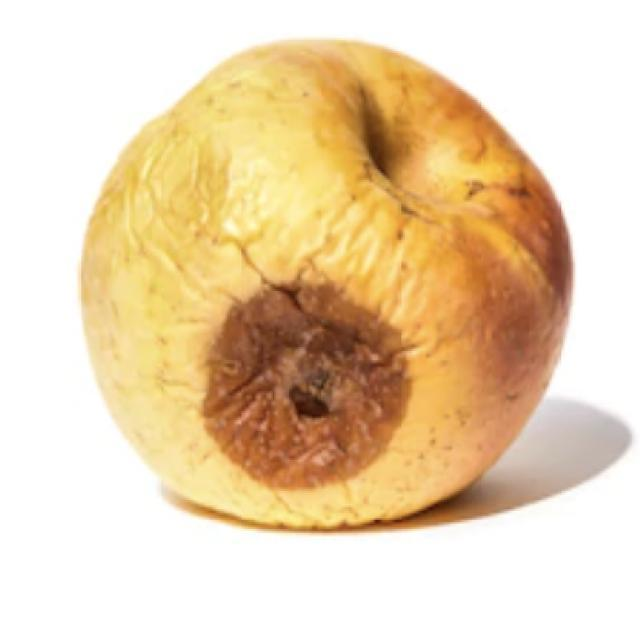Rotten: (75, 30, 575, 533)
